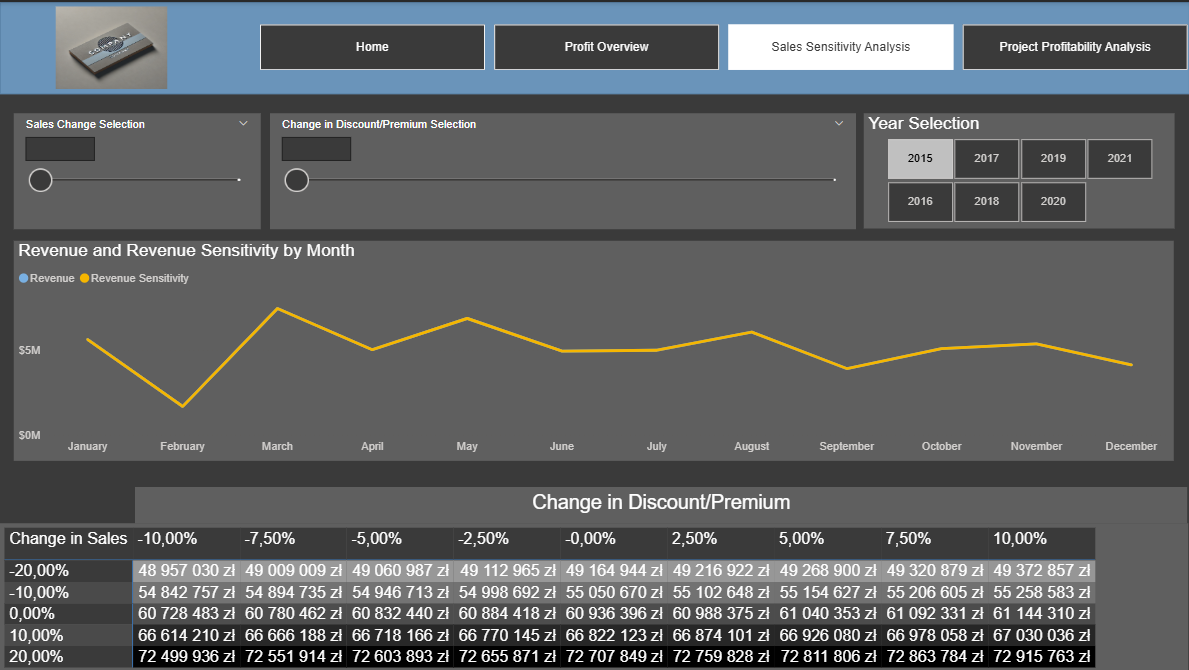

The dashboard page shown, as its layout file describes it:
{"tool":"powerbi","page":{"name":"Sales Sensitivity Analysis","canvas":[1280,720],"ordinal":2},"visuals":[{"type":"shape","box":[0,0,1280,99.2],"z":0,"group":"g2"},{"type":"slicer","fields":{"Values":["Change in Sales.Change in Sales"]},"box":[15.3,119.9,264.6,123.7],"z":0},{"type":"pivotTable","fields":{"Values":["Forecasts.Revenue Sensitivity"],"Rows":["Change in Sales.Change in Sales"],"Columns":["Change in Discount/Premium.Change in Discount/Premium"]},"box":[0,560.2,1278.1,160.1],"z":0,"group":"g1"},{"type":"pageNavigator","box":[280.1,24.3,999.9,49.6],"z":1000,"group":"g2"},{"type":"slicer","title":"Year Selection","fields":{"Values":["Calendar.Date.Variation.Date Hierarchy.Year"]},"box":[929.1,119.9,334.6,123.7],"z":1000},{"type":"textbox","box":[145.7,521.2,1132.3,39.3],"z":1000,"group":"g1"},{"type":"slicer","fields":{"Values":["Change in Discount/Premium.Change in Discount/Premium"]},"box":[290.5,119.9,629.9,123.7],"z":2000},{"type":"group","id":"g1","title":"Group 1","box":[0,521.2,1278.1,199.1],"z":3000},{"type":"lineChart","fields":{"Y":["Sum(Sales_Fact.Revenue)","Forecasts.Revenue Sensitivity"],"Category":["Calendar.Date.Variation.Date Hierarchy.Month"]},"box":[15.3,257,1248.4,236.8],"z":4000},{"type":"group","id":"g2","title":"Group 1","box":[0,0,1280,99.2],"z":5000},{"type":"image","box":[55.6,0,129.4,98.8],"z":6000}]}

Visuals, with their boxes in screenshot pixels (x1, y1, x2, y2), scaled from the page's 1280x720 canvas onto the 1189x670 screenshot:
shape: left=0, top=0, right=1188, bottom=92
slicer - Change in Sales.Change in Sales: left=14, top=112, right=260, bottom=227
pivotTable - Forecasts.Revenue Sensitivity x Change in Sales.Change in Sales: left=0, top=521, right=1187, bottom=669
pageNavigator: left=260, top=23, right=1188, bottom=69
"Year Selection" slicer: left=863, top=112, right=1174, bottom=227
textbox: left=135, top=485, right=1187, bottom=522
slicer - Change in Discount/Premium.Change in Discount/Premium: left=270, top=112, right=855, bottom=227
"Group 1" group: left=0, top=485, right=1187, bottom=669
lineChart - Sum(Sales_Fact.Revenue) x Forecasts.Revenue Sensitivity: left=14, top=239, right=1174, bottom=460
"Group 1" group: left=0, top=0, right=1188, bottom=92
image: left=52, top=0, right=172, bottom=92
